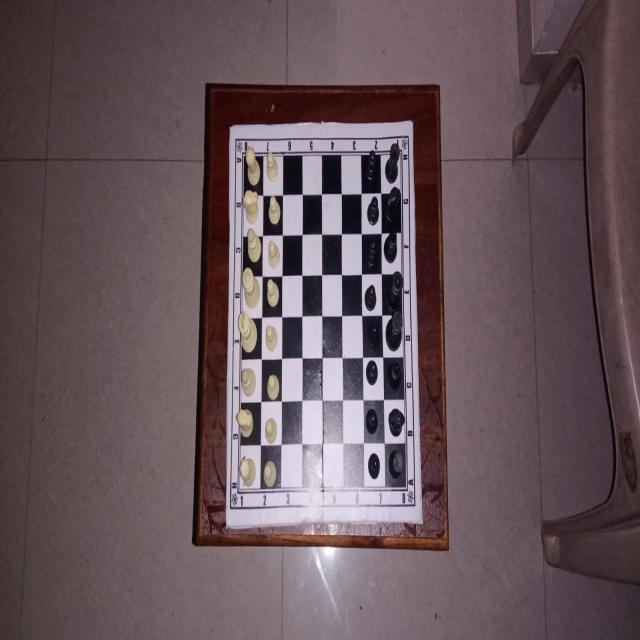corners: (226, 121, 237, 143), (406, 116, 416, 135), (223, 520, 232, 536), (419, 515, 427, 529)
